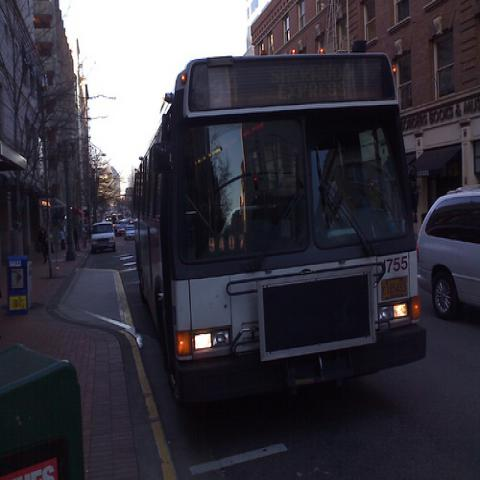bus: (130, 50, 427, 420)
car: (414, 182, 479, 317), (91, 221, 115, 253), (124, 226, 134, 239), (114, 224, 125, 235), (120, 218, 132, 226), (112, 212, 118, 224), (106, 215, 112, 221)
